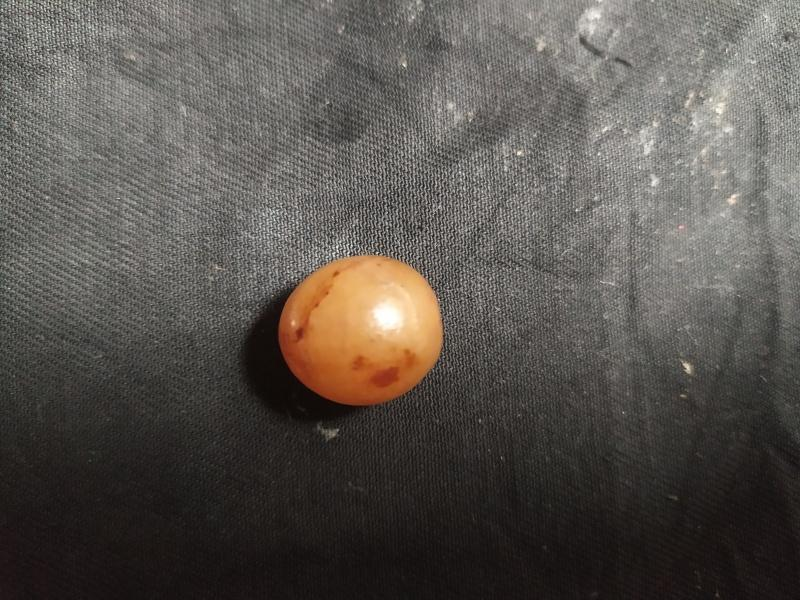Grape Rotten: (275, 254, 444, 408)
